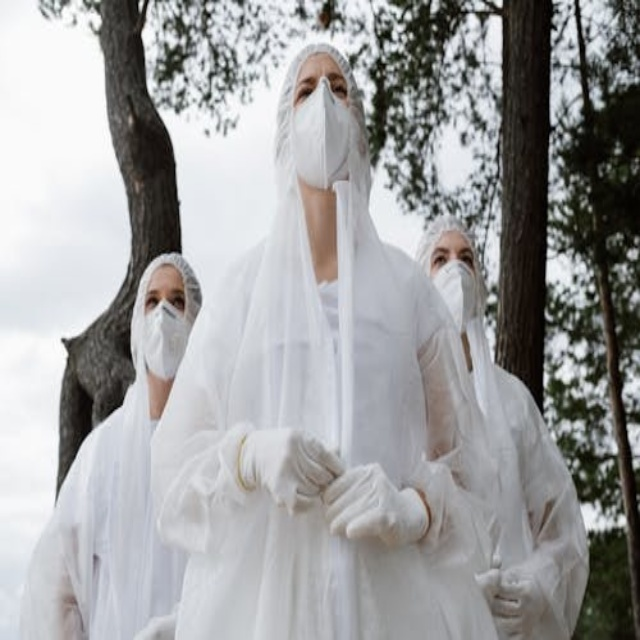Guantes: (238, 419, 346, 517), (317, 463, 431, 546), (485, 569, 550, 636)
Mascara: (290, 79, 353, 189), (141, 298, 191, 380), (431, 260, 480, 331)
Sin_gafas: (292, 73, 349, 108), (431, 242, 475, 269), (142, 288, 187, 311)
